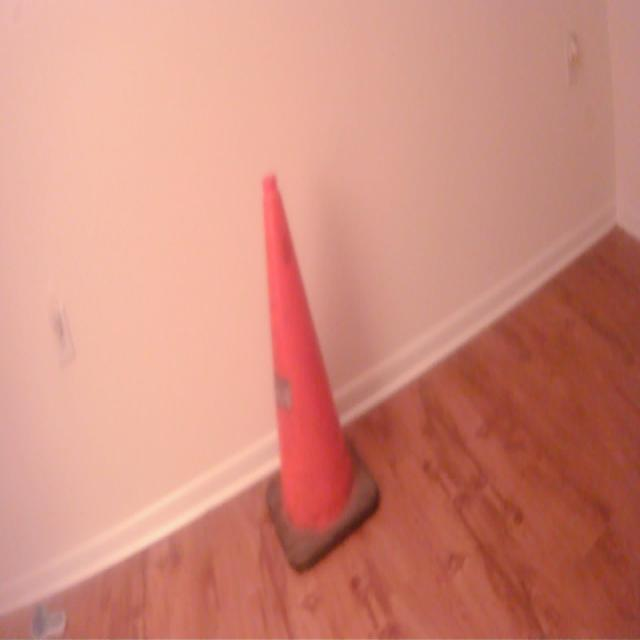traffic cone: (260, 164, 384, 577)
